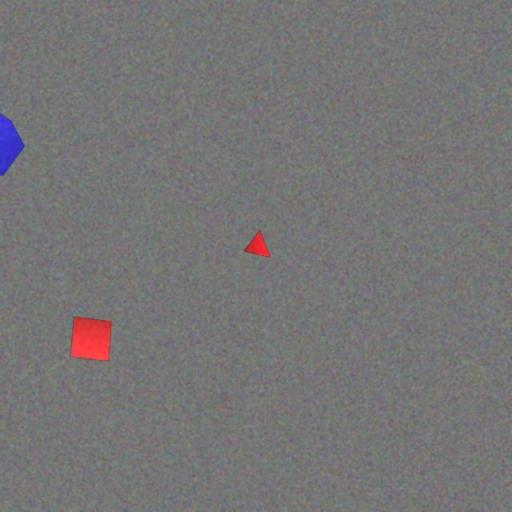RED_SQUARE: (70, 316, 112, 362)
